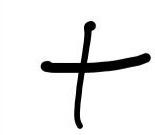plus: (40, 21, 151, 129)
